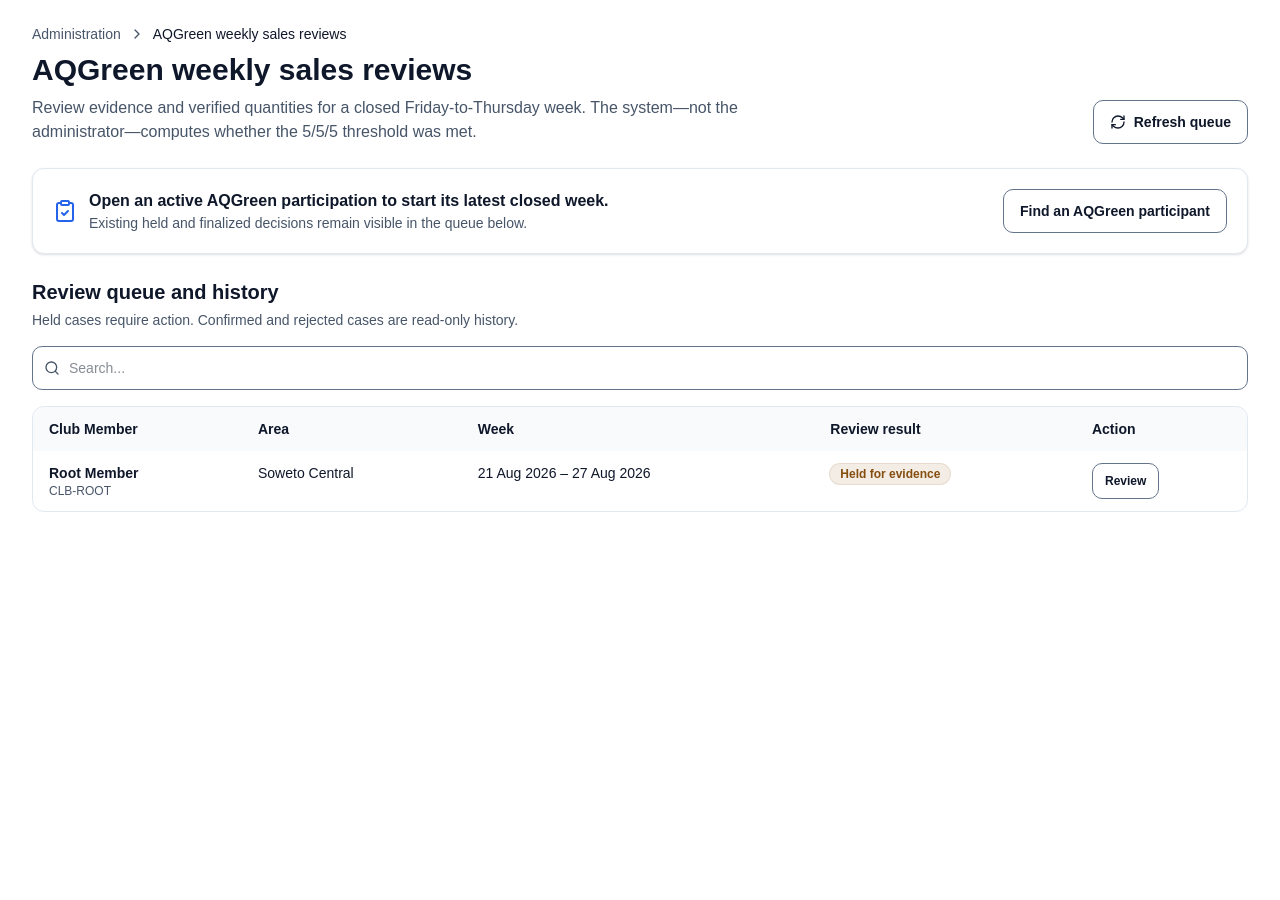
Test: AdminWeeklySalesReviews › confirms verified quantities and renders the system-computed Not met result
The width and height of the screenshot is (1280, 900).
Check: the text "Root Member" is shown, box [49,465,138,481]
Step 1. Click the button "Review" → (1126, 481), box [1092,463,1159,499]
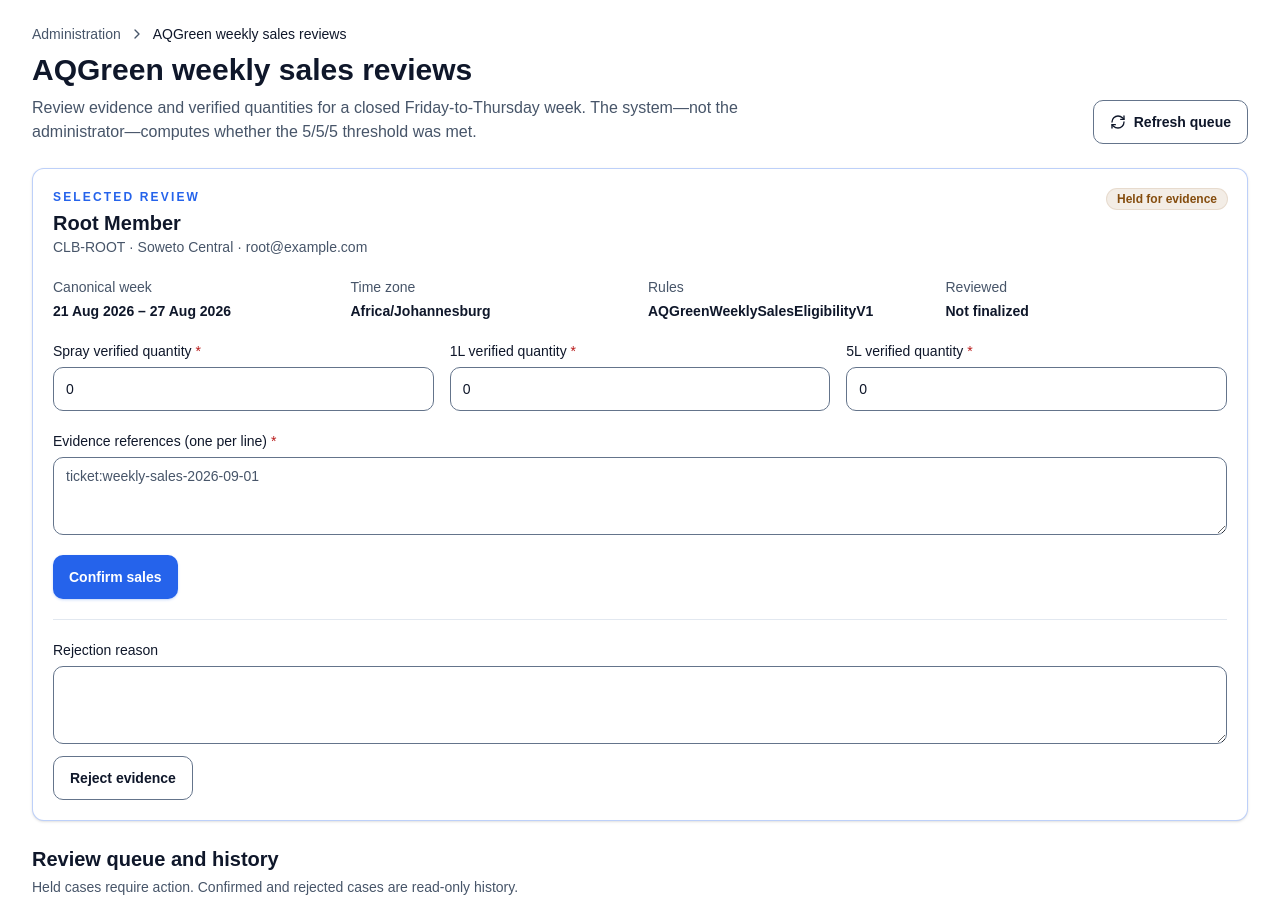
Step 2. Replace the text in the number field labelled "Spray verified quantity" with "5" → (243, 389), box [53,367,434,411]
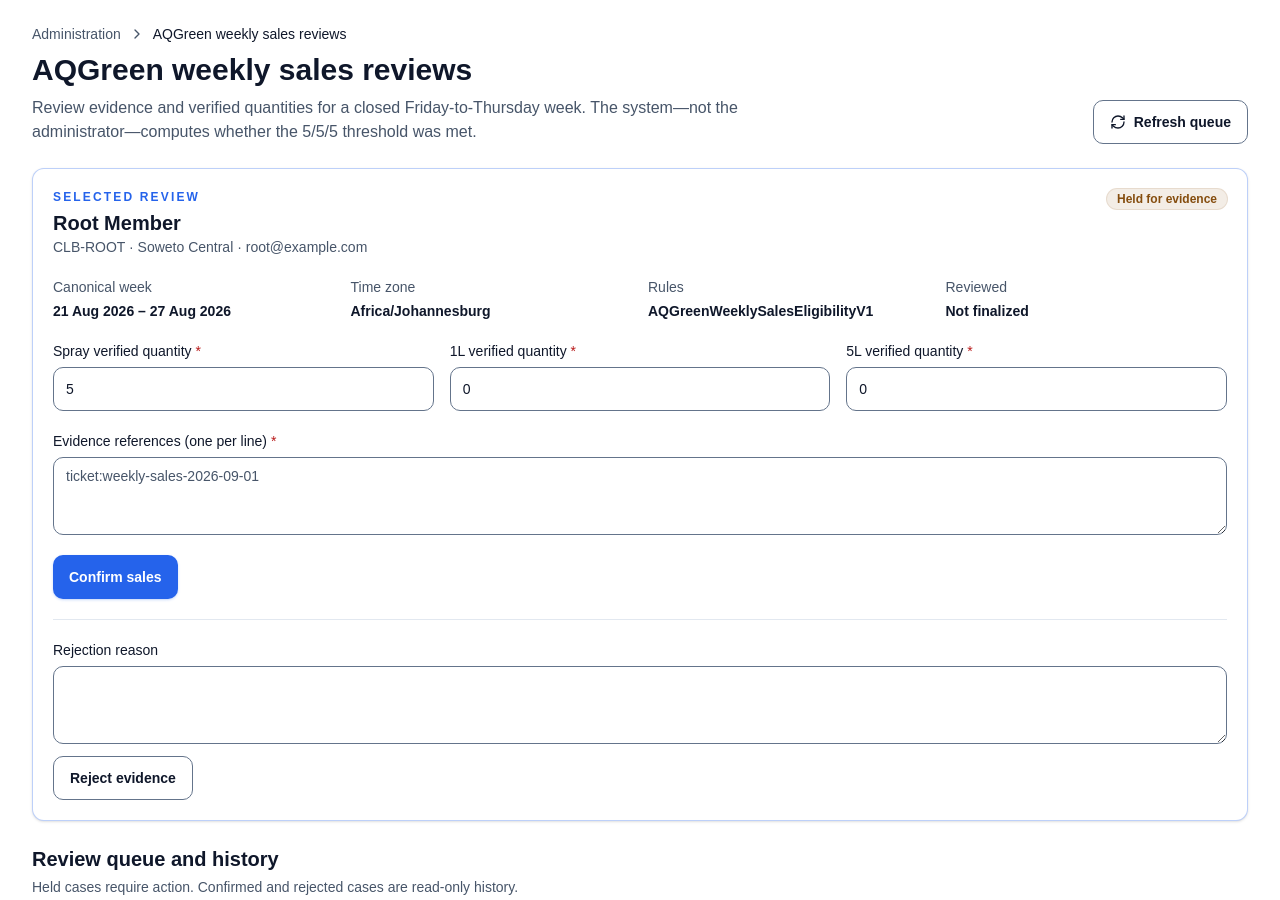
Step 3. Replace the text in the number field labelled "1L verified quantity" with "5" → (640, 389), box [450,367,830,411]
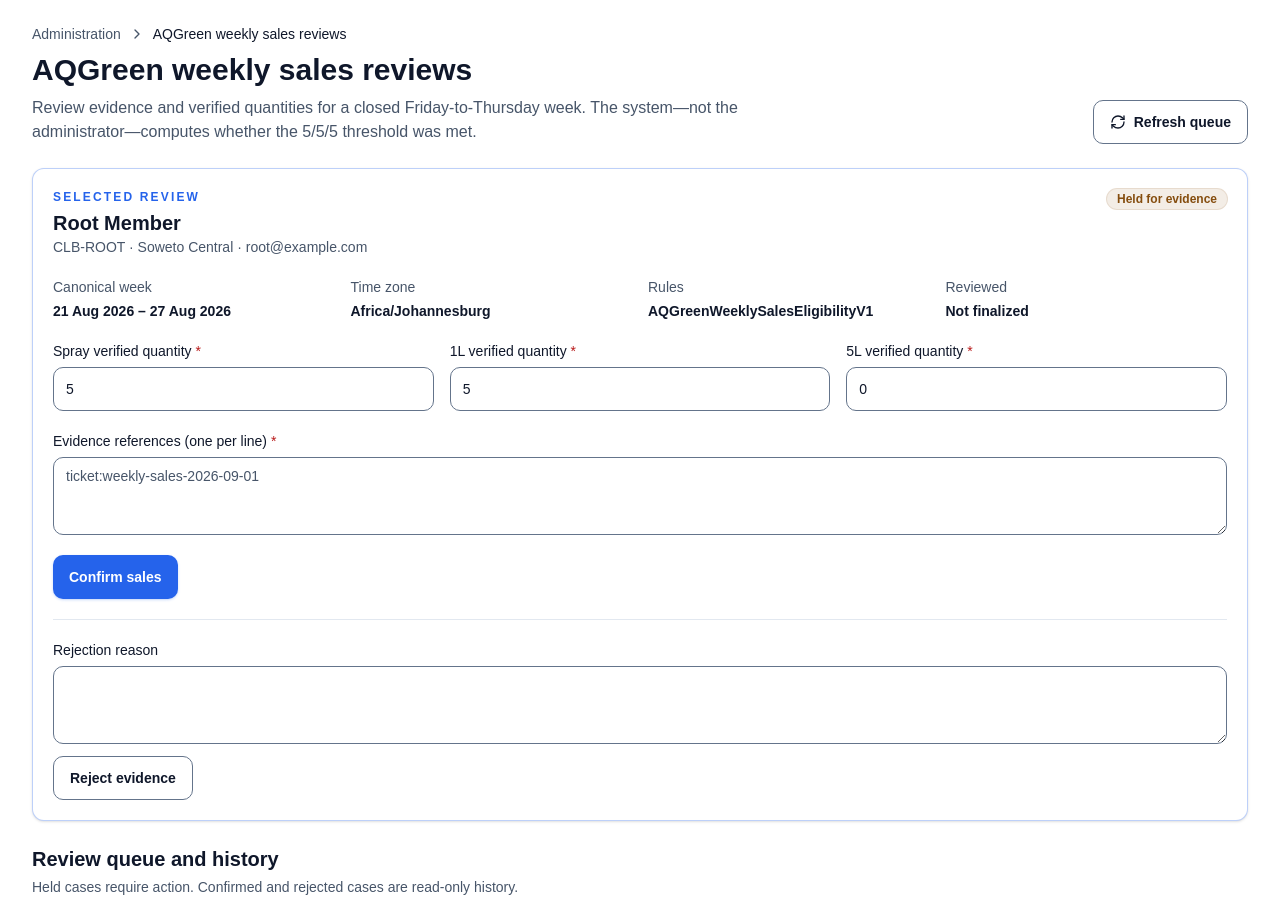
Step 4. Replace the text in the number field labelled "5L verified quantity" with "4" → (1037, 389), box [846,367,1227,411]
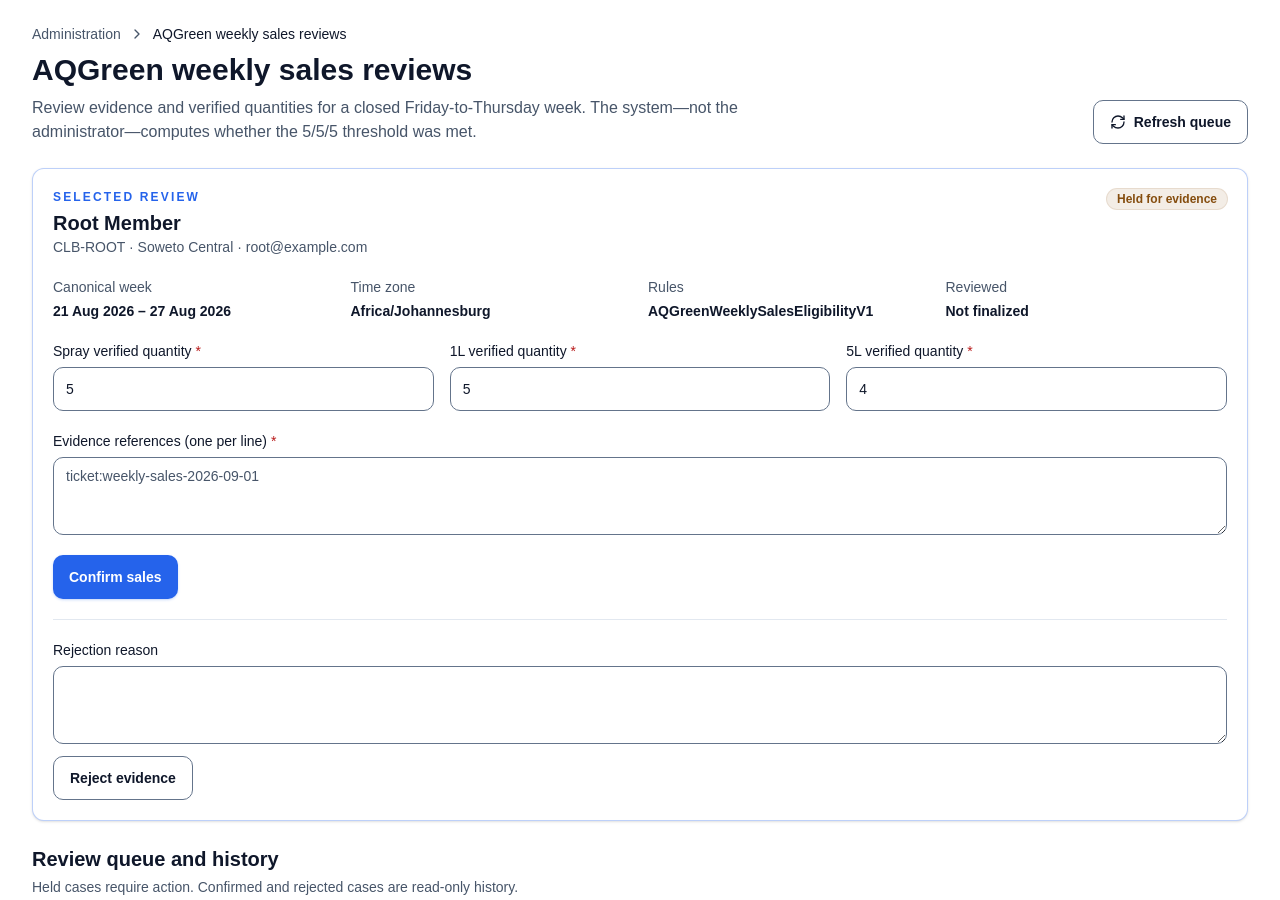
Step 5. Type "ticket:root-week" into the text box labelled "Evidence references (one per line)" → (640, 496), box [53,457,1227,535]
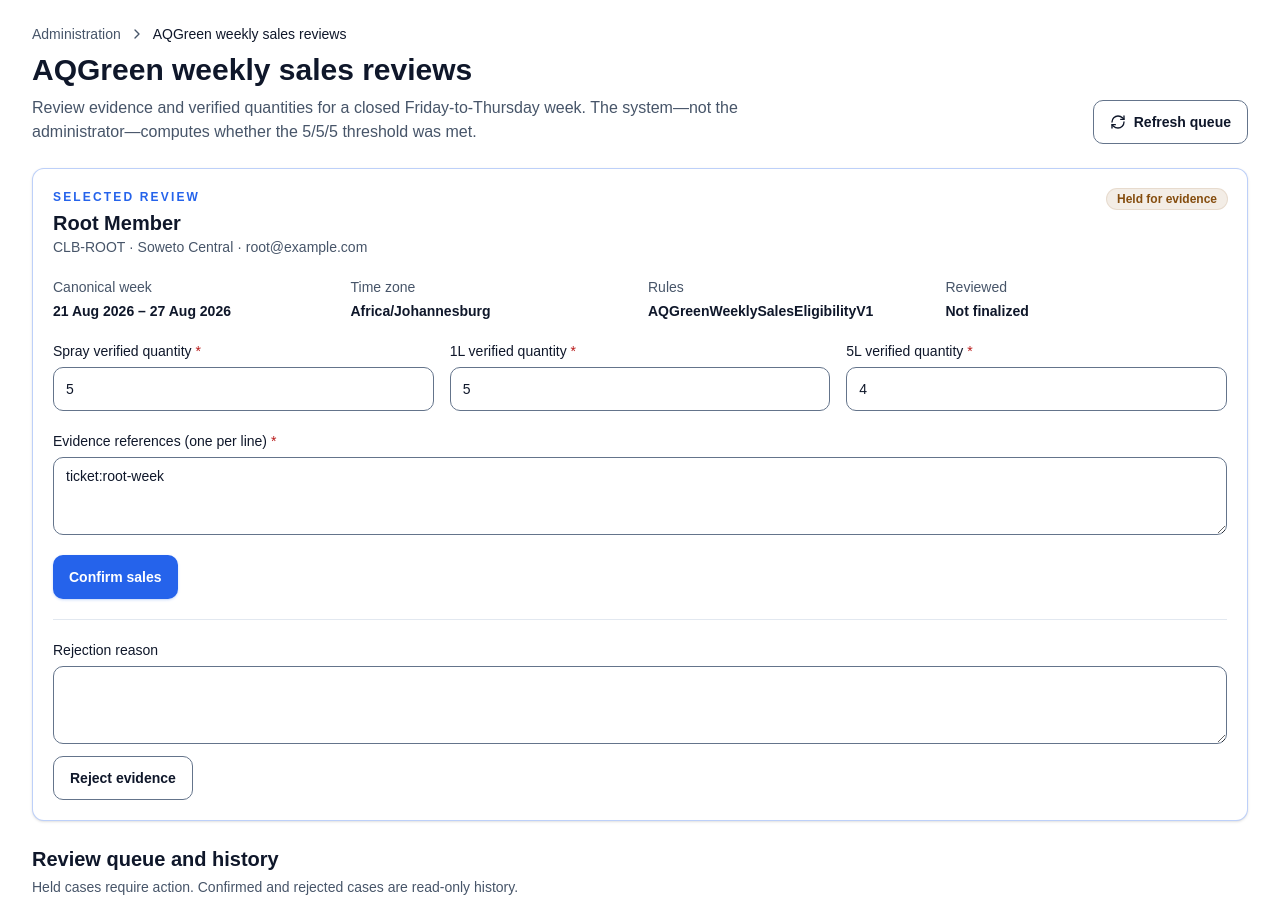
Step 6. Click the button "Confirm sales" → (115, 577), box [53,555,178,599]
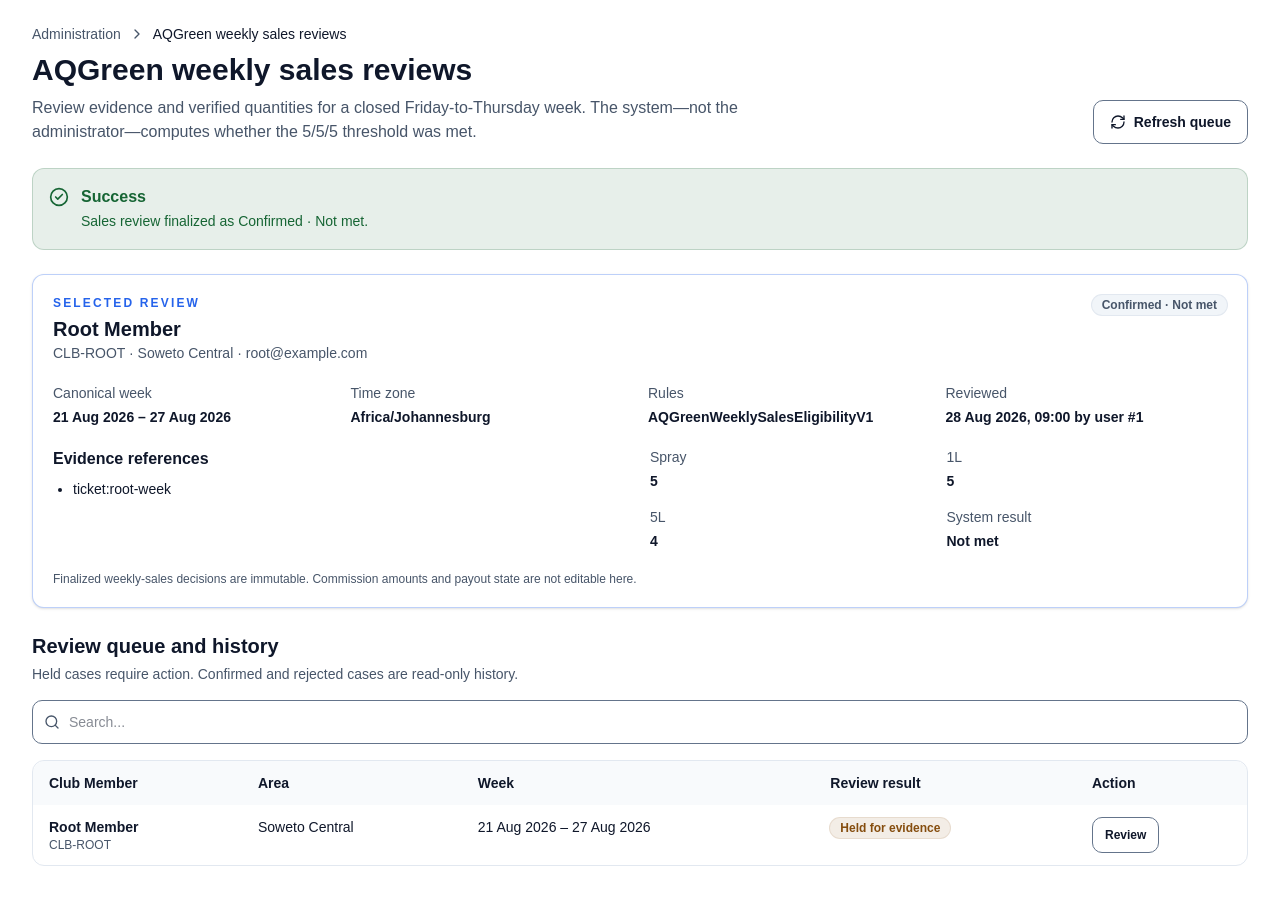
Check: the text "Confirmed · Not met" is shown, box [1092,295,1227,315]
Check: the text "System result" is shown, box [946,509,1031,525]
Check: the text "Not met" is shown, box [946,533,999,549]
